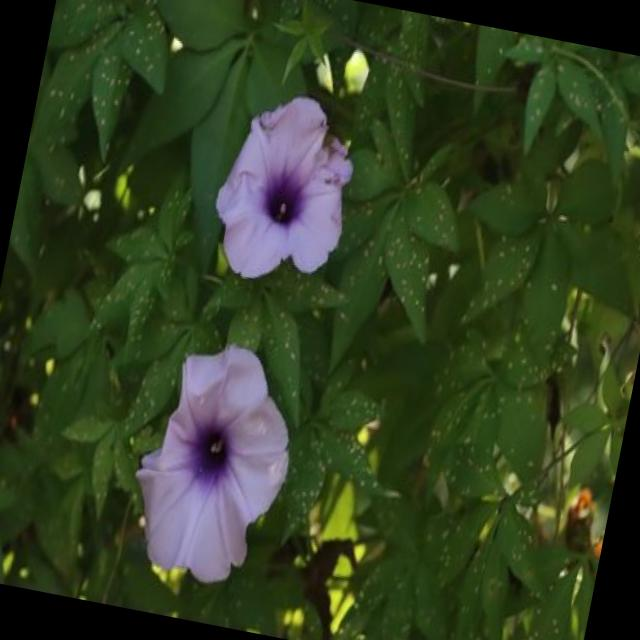ipomoea: (115, 328, 313, 598), (200, 80, 370, 300)
